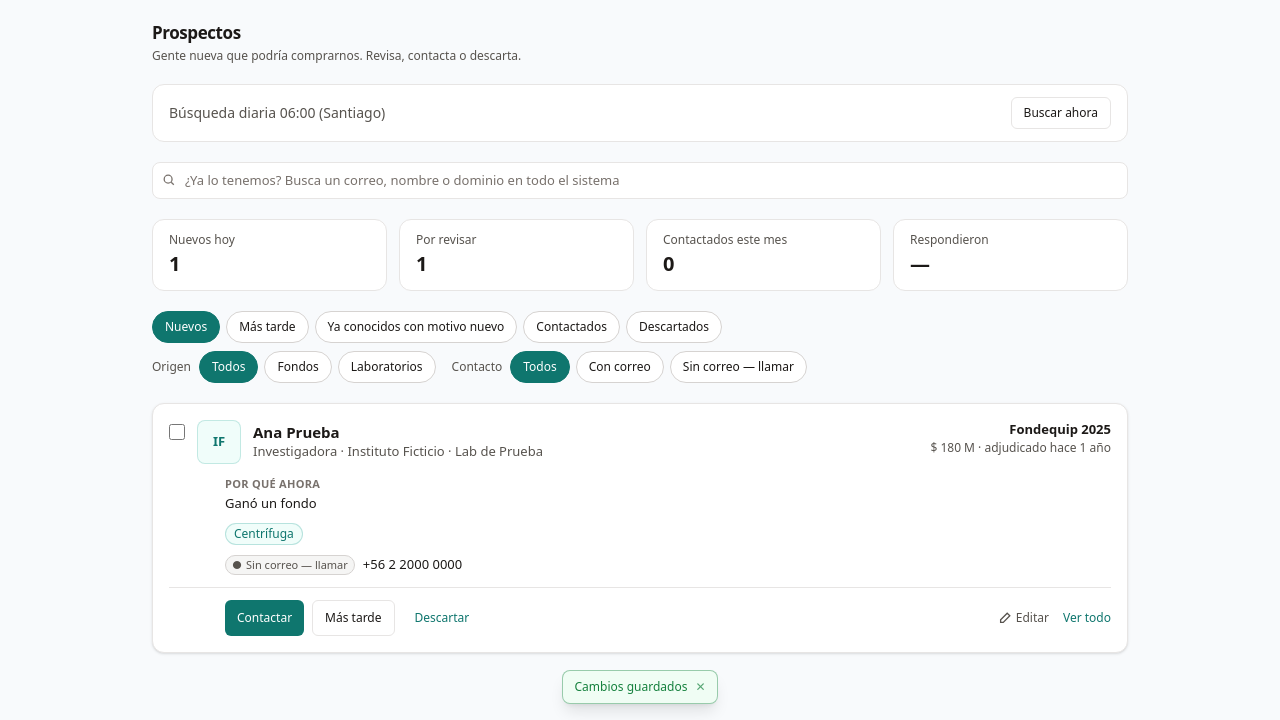
Scenario: ¿Ya lo tenemos? › answers a correo from the whole system, and says so when it is nowhere
Check: the element with test id "^prospect-card-" is shown, box 152,403 -> 1128,652
Step 1. Replace the text in the search field with test id "system-search" with "ana@nueva.example.test" → [640, 180], box 152,162 -> 1128,199
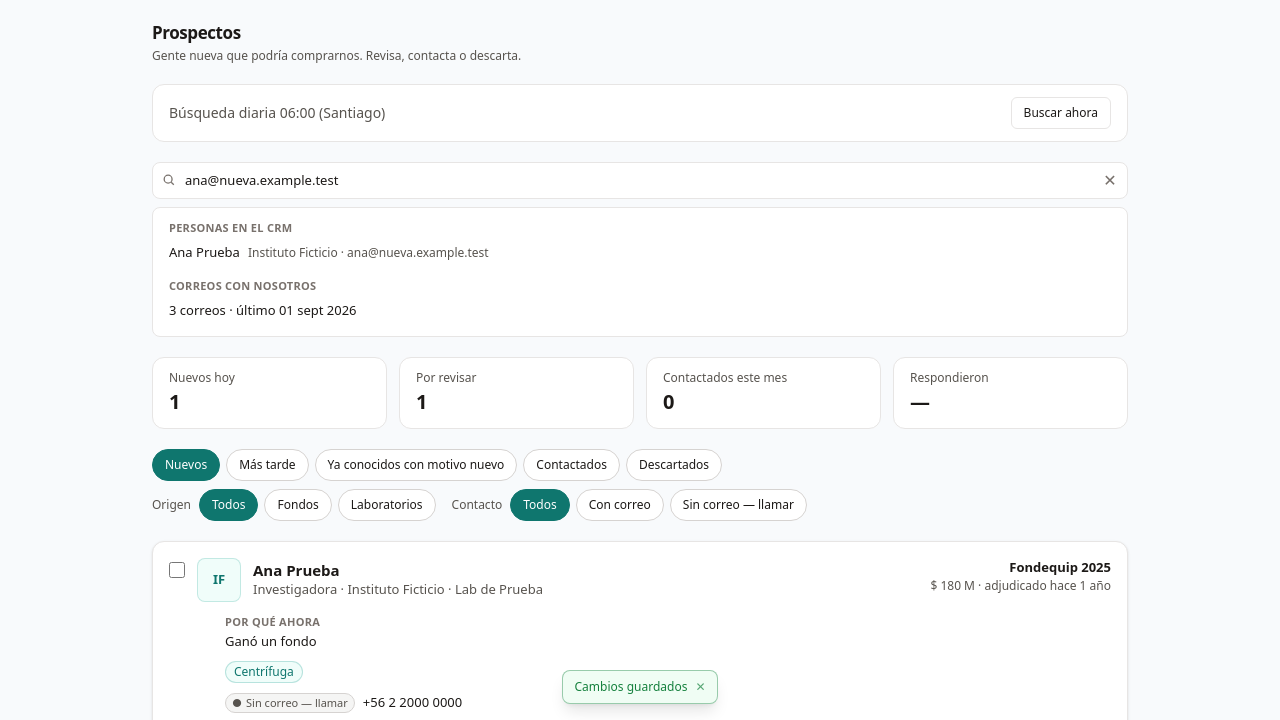
Check: the message with test id "lookup-results" shows "3 correos", box 169,300 -> 356,318
Step 2. Click the button named "Limpiar búsqueda" → [1110, 180], box 1098,168 -> 1122,192
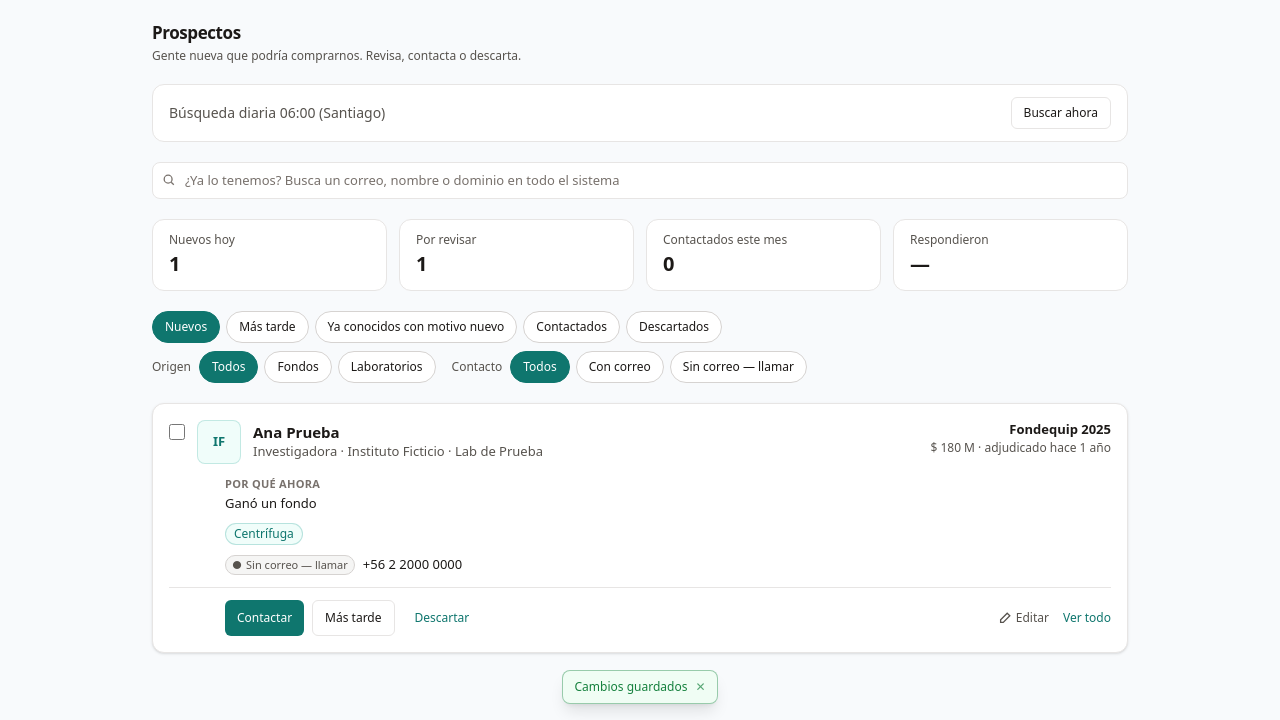
Check: the message with test id "lookup-results" is gone
